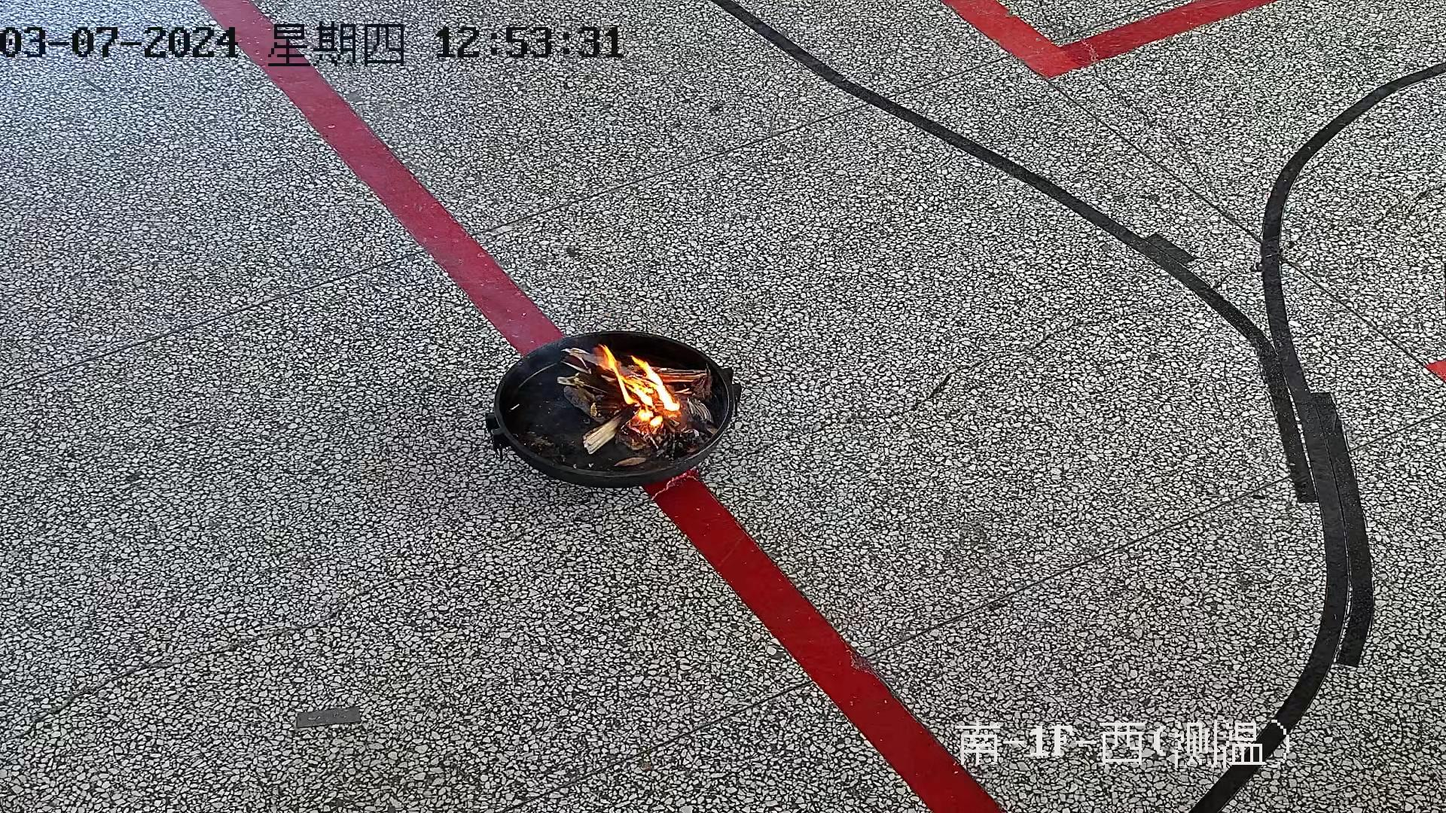fire: (597, 347, 687, 441)
